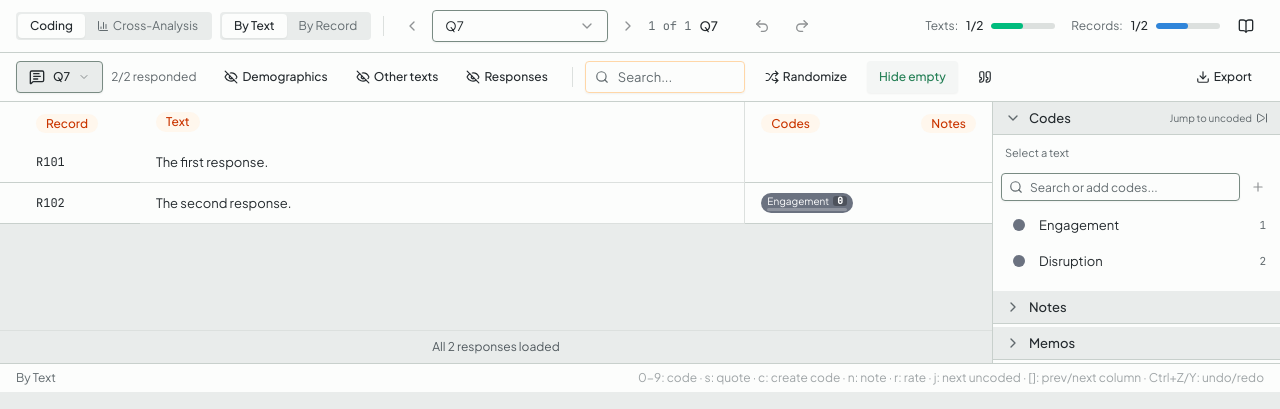
Scenario: the rating strip on the text-coding surface (#868 d) › applying a scaled code by digit opens the strip below the grid, and a digit in it rates without coding
This screenshot has width=1280, height=409.
Click the row "R101 The first response.".
click(496, 162)  # box [0, 142, 992, 183]
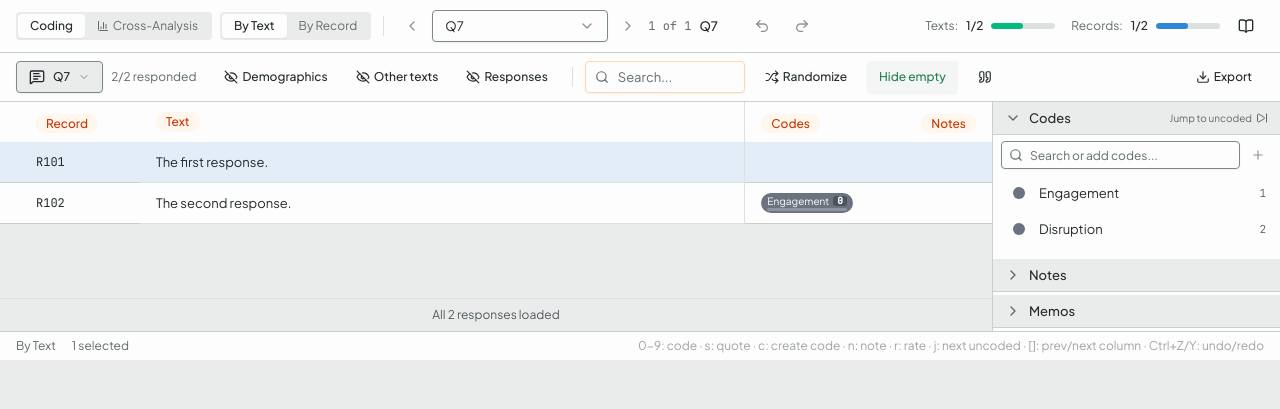
Press 1
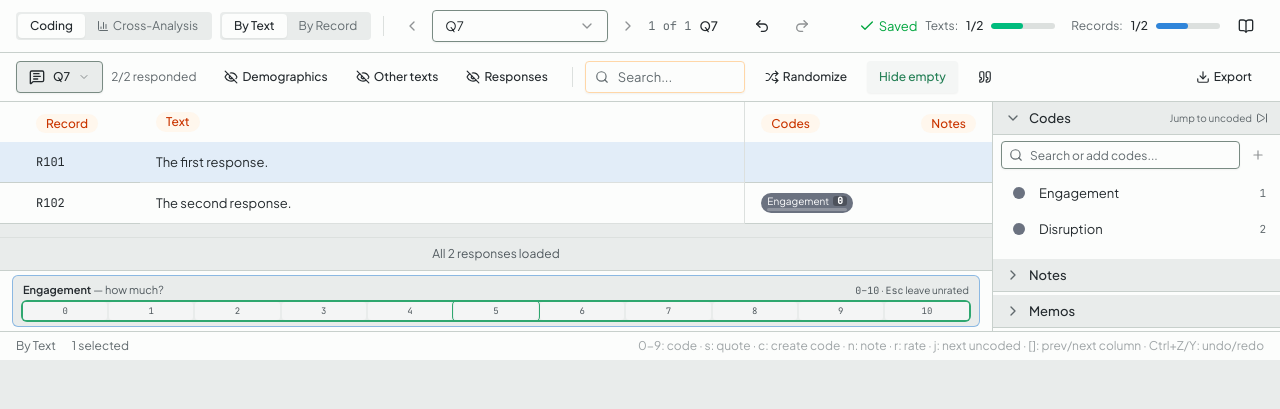
Press 7 in the element showing "0 1 2 3 4 5 6 7 8 9 10", box [23, 302, 969, 320]
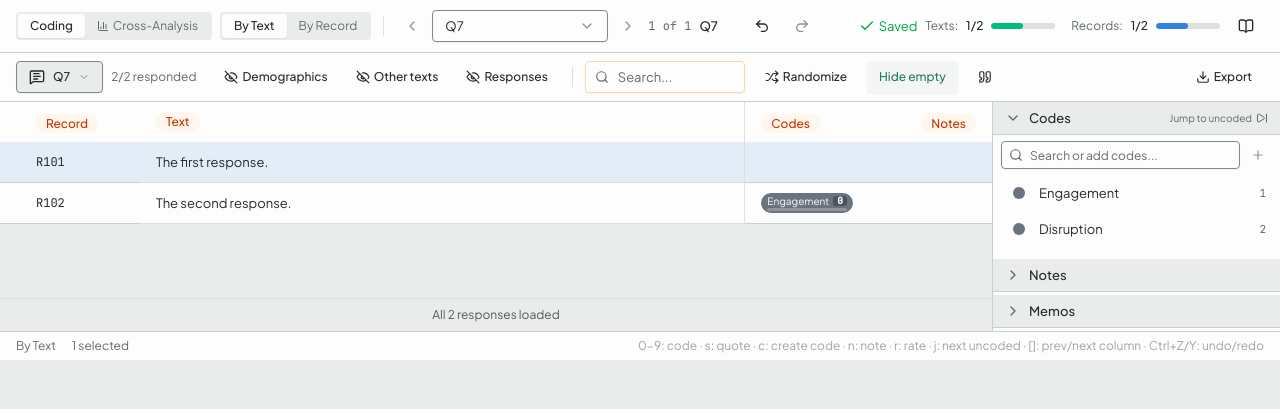
Expected: the element with test id "magnitude-strip" is gone
